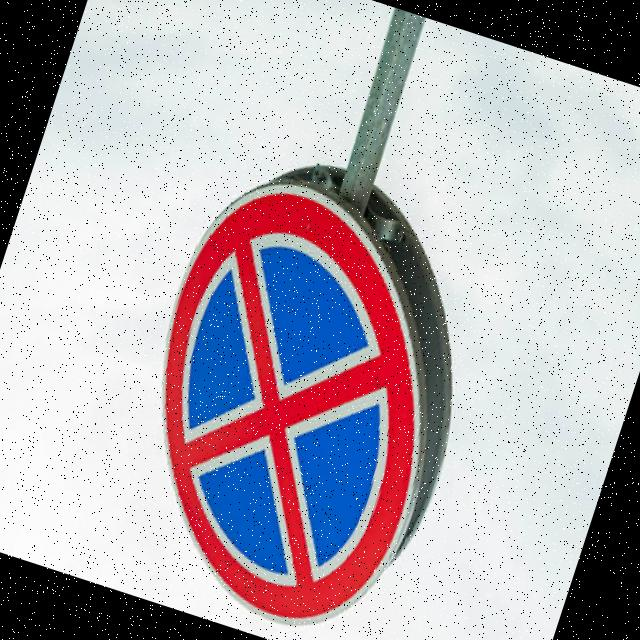no_parking: (80, 149, 497, 640)
